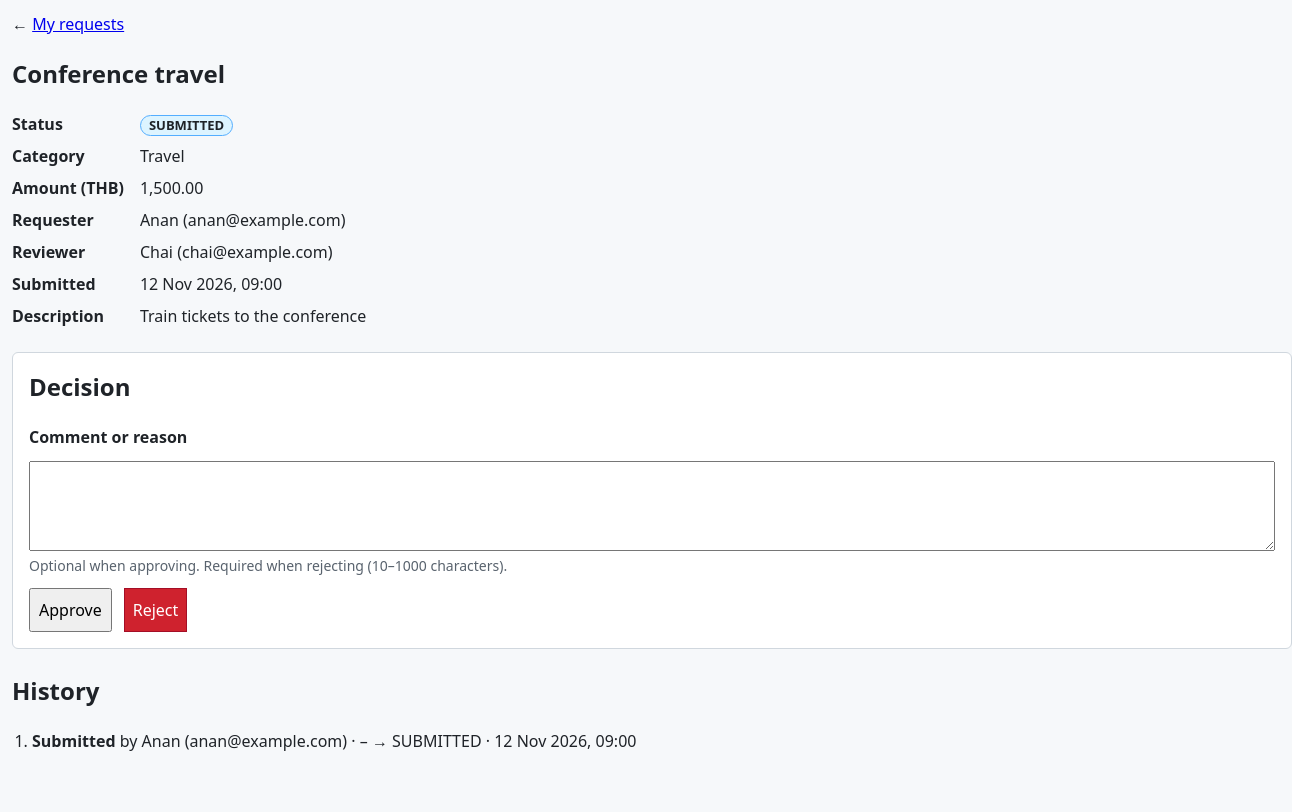
Scenario: RequestDetailPage decisions (F-04b) › approves without a comment by sending an empty body
Check: the element "Decision" is shown, box [12,352,1291,649]
What coordinates should you click on to do the following:
click the button "Approve"
I would click on:
 (70, 610)
Its box is [29,588,112,632].
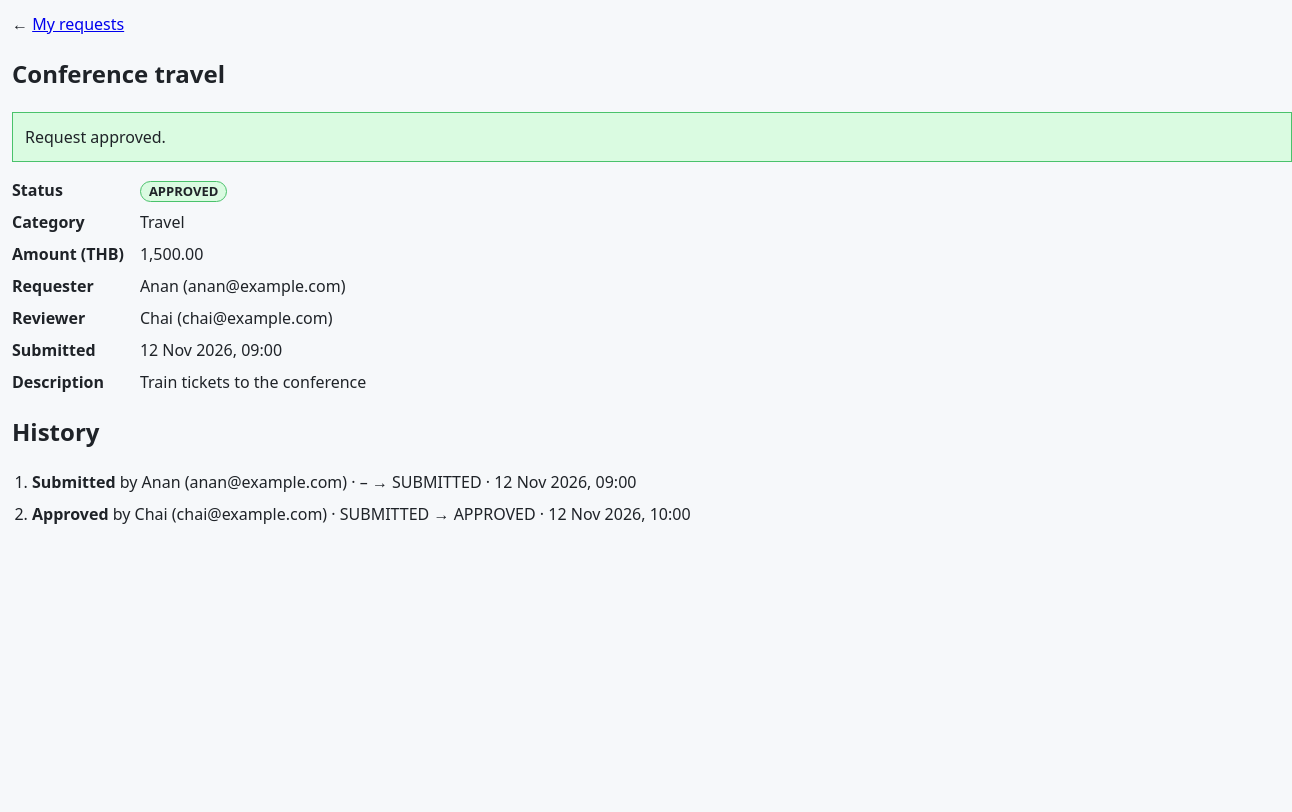
Check: the list item that starts with "Approved" does not show "Comment:", box [32,503,690,525]
Check: the message reads "Request approved.", box [25,126,166,148]
